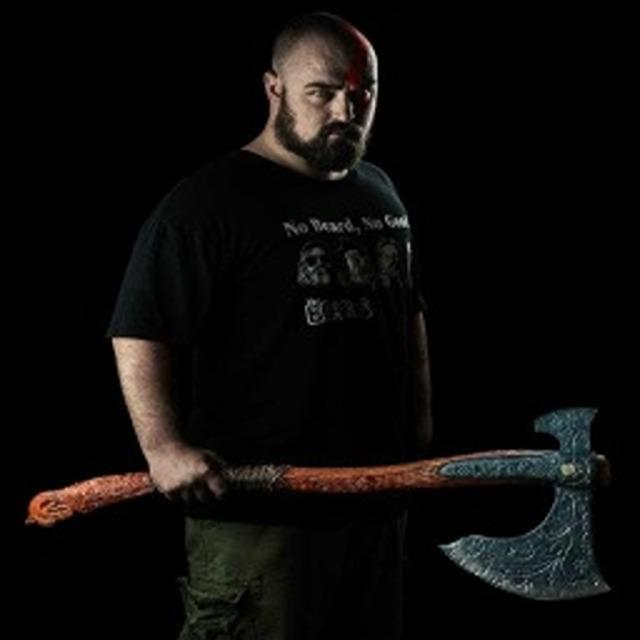ax: (22, 401, 624, 623)
